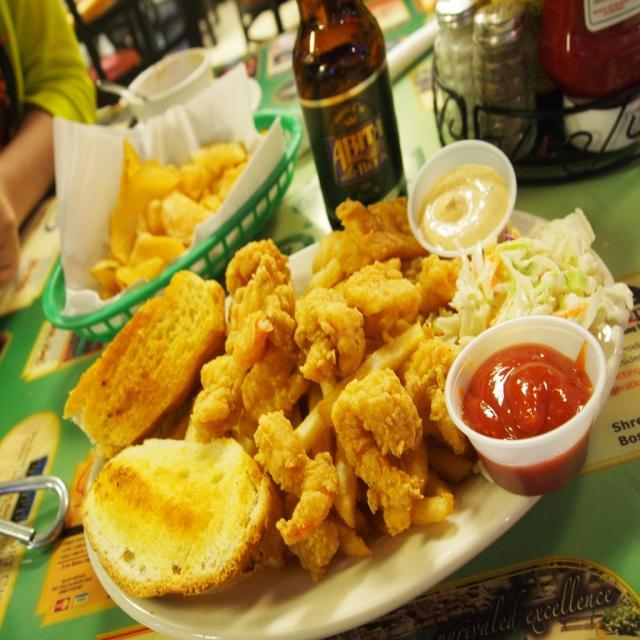French fries: (189, 235, 452, 557)
